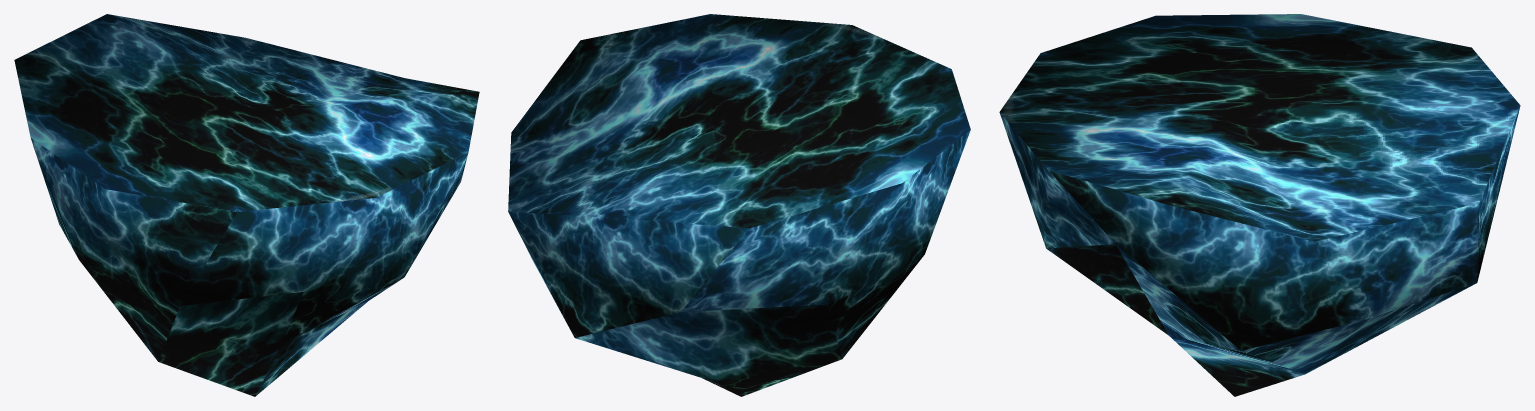
File: island.FBX
3 views of the same model, side by side, from view 1: azimuth 30°, elevation 25°; view 2: azimuth 150°, elevation 25°; view 3: azimuth 270°, elevation 25° (orthographic).
Visible parts, largest first — view 1: GeoSphere001; view 2: GeoSphere001; view 3: GeoSphere001.
Part boxes in pixels (bbox=[...]): GeoSphere001: bbox=[14, 14, 479, 396]; GeoSphere001: bbox=[508, 14, 970, 396]; GeoSphere001: bbox=[999, 14, 1520, 396].
Size of the model in its own units: 54.87 by 38.56 by 63.32.
